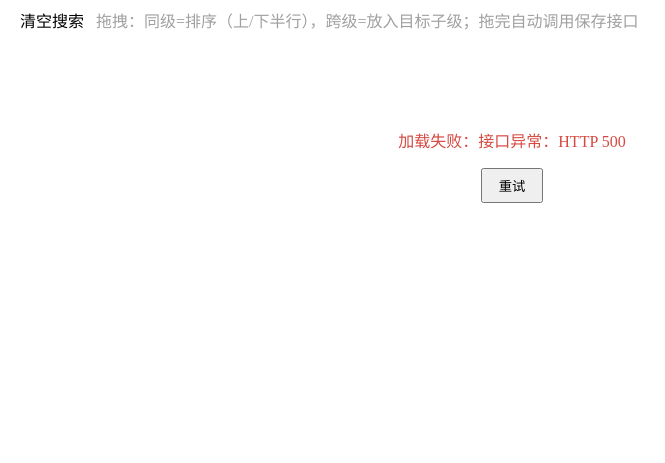
Scenario: TagTreePage（树页：展开/搜索高亮/停用标记） › 报错态：mock=error 时显示报错+重试
This screenshot has width=665, height=463.
Expected: the element with test id "page-error" is shown, [398,133,626,203]
Click the button "重试" at (512,186), box [481,168,543,203]
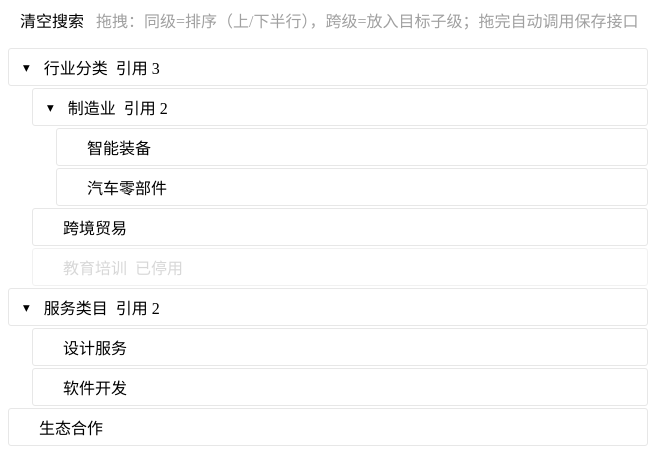
Expected: the list item with test id "tag-node-ind" is shown, [8,48,648,86]
